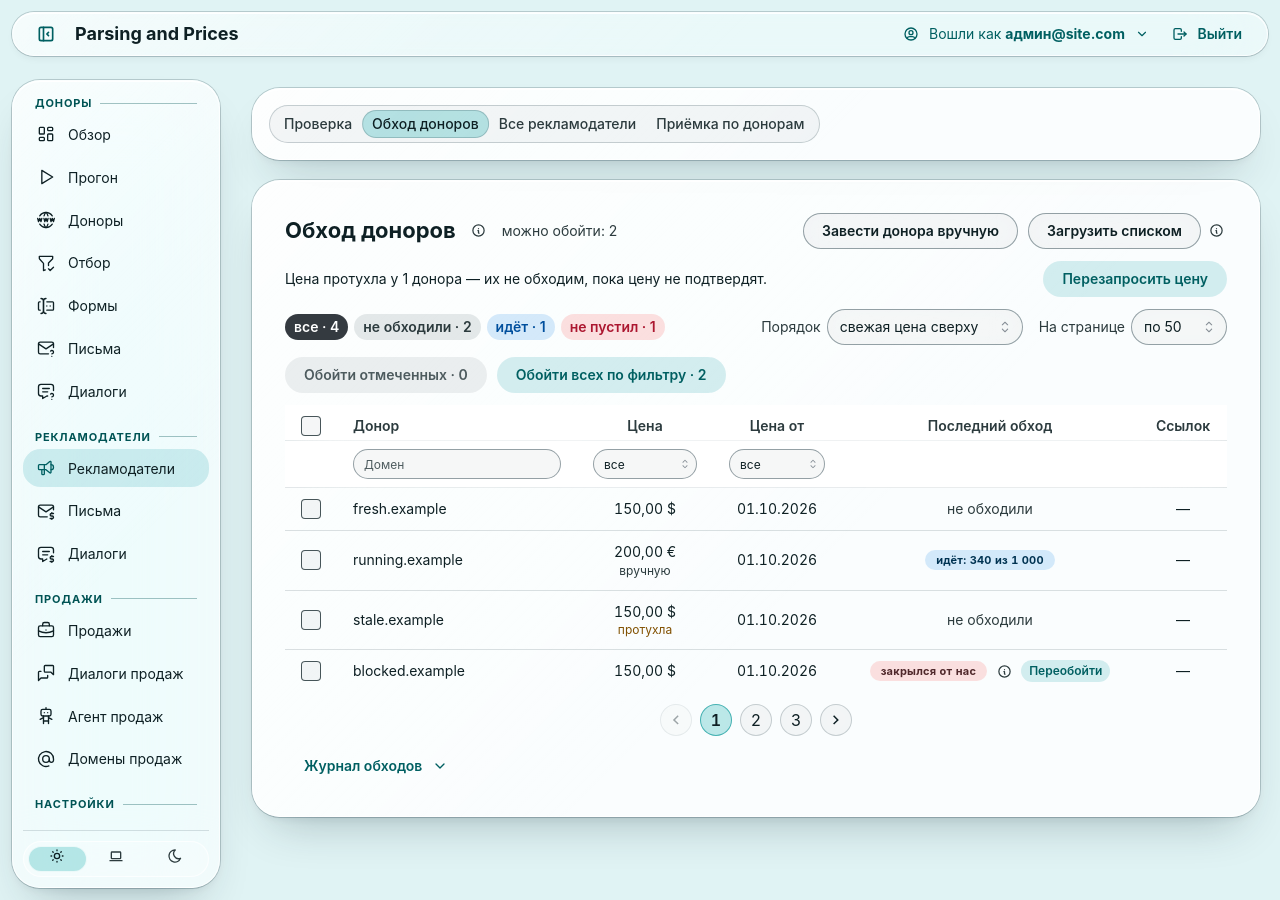
Scenario: вкладка «Обход доноров» › страницы — на сервере: номер уходит в запрос, отметки переживают страницу
This screenshot has width=1280, height=900.
Click the checkbox named "Обойти fresh.example": coordinates (311, 509) [301,499,321,519]
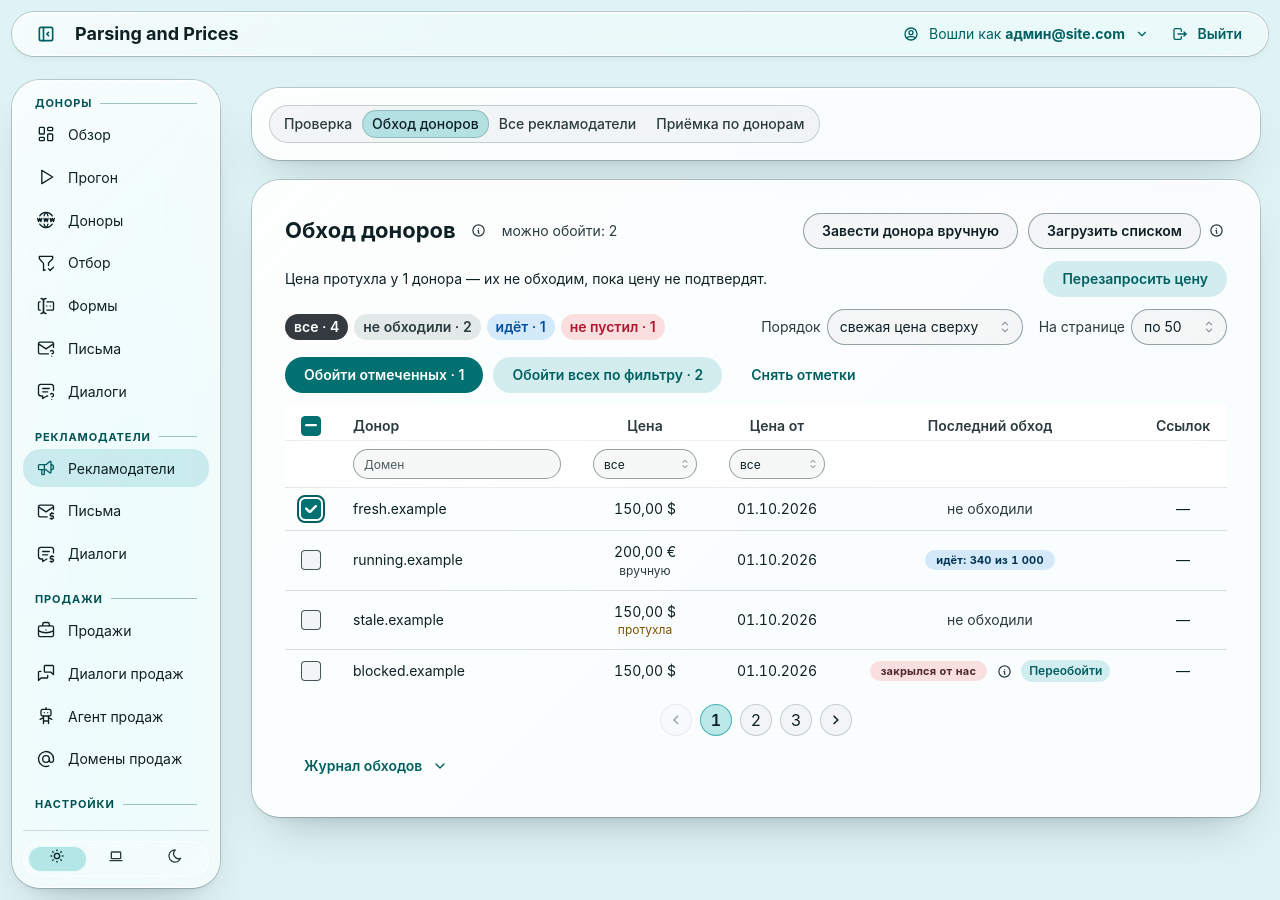
Click the button named "Страница 2": coordinates (756, 720) [740,704,772,736]
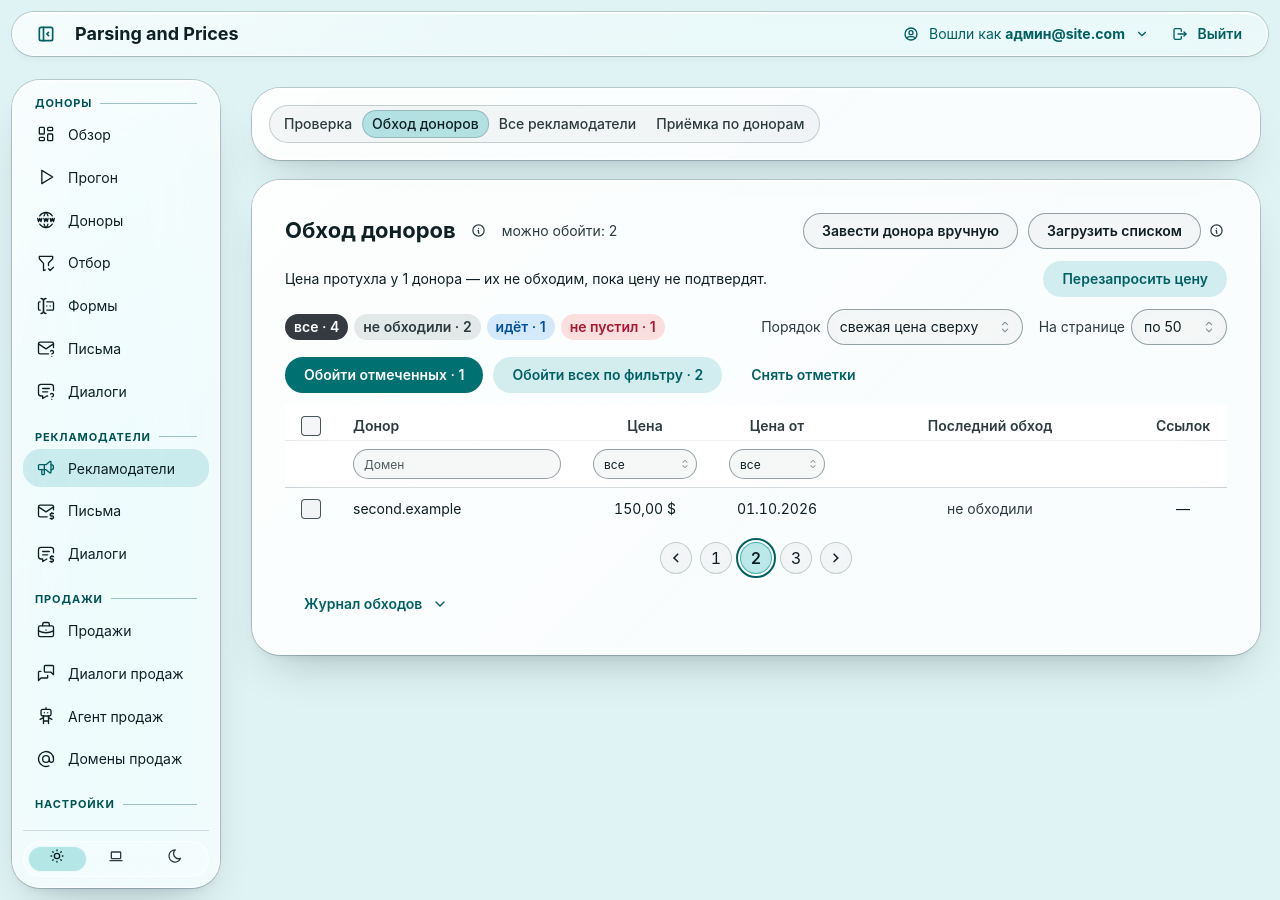
Expected: the button "Обойти отмеченных · 1" is enabled, [285,357,483,393]
Expected: the text "second.example" is shown, [337,488,577,530]
